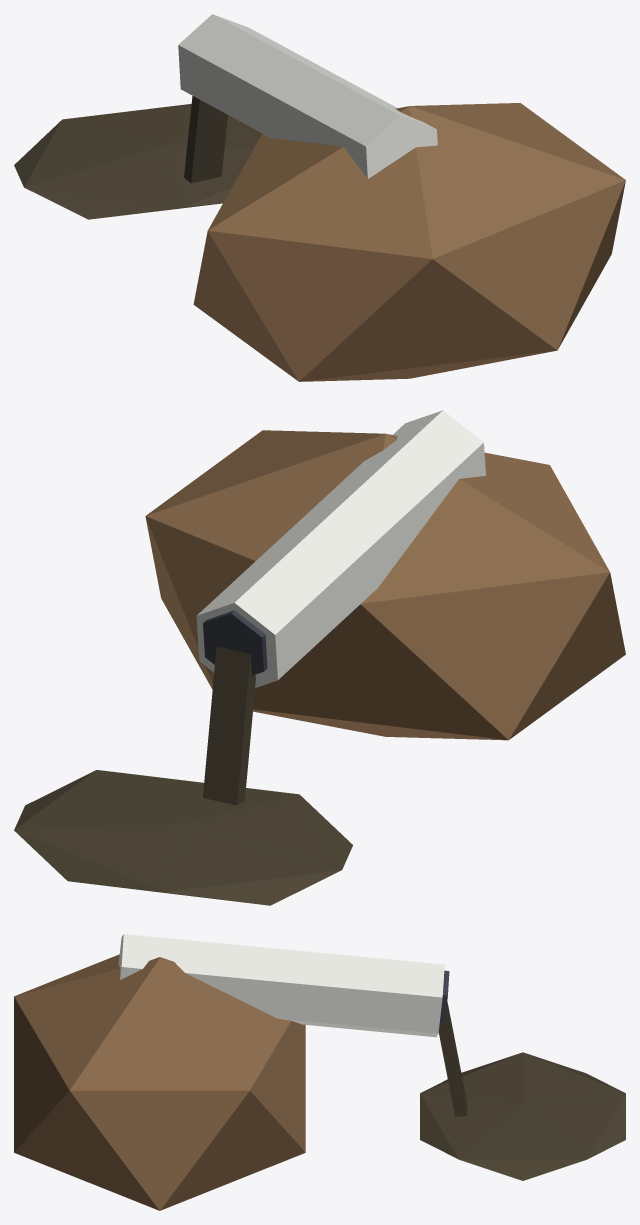
File: cano_pvc.glb
The picture shows the model from 3 angles, top to bottom: view 1: azimuth 30°, elevation 25°; view 2: azimuth 150°, elevation 25°; view 3: azimuth 270°, elevation 25°; orthographic projection. The views are drawn at different scales.
Parts seen in each view (by area): view 1: corpo; view 2: corpo; view 3: corpo.
Part boxes in pixels (left/top/right/bottom): corpo: left=14, top=14, right=625, bottom=381; corpo: left=14, top=410, right=625, bottom=905; corpo: left=14, top=934, right=625, bottom=1210.
Bounding box in the file's own units: 0.3953 × 0.2673 × 0.6067.
